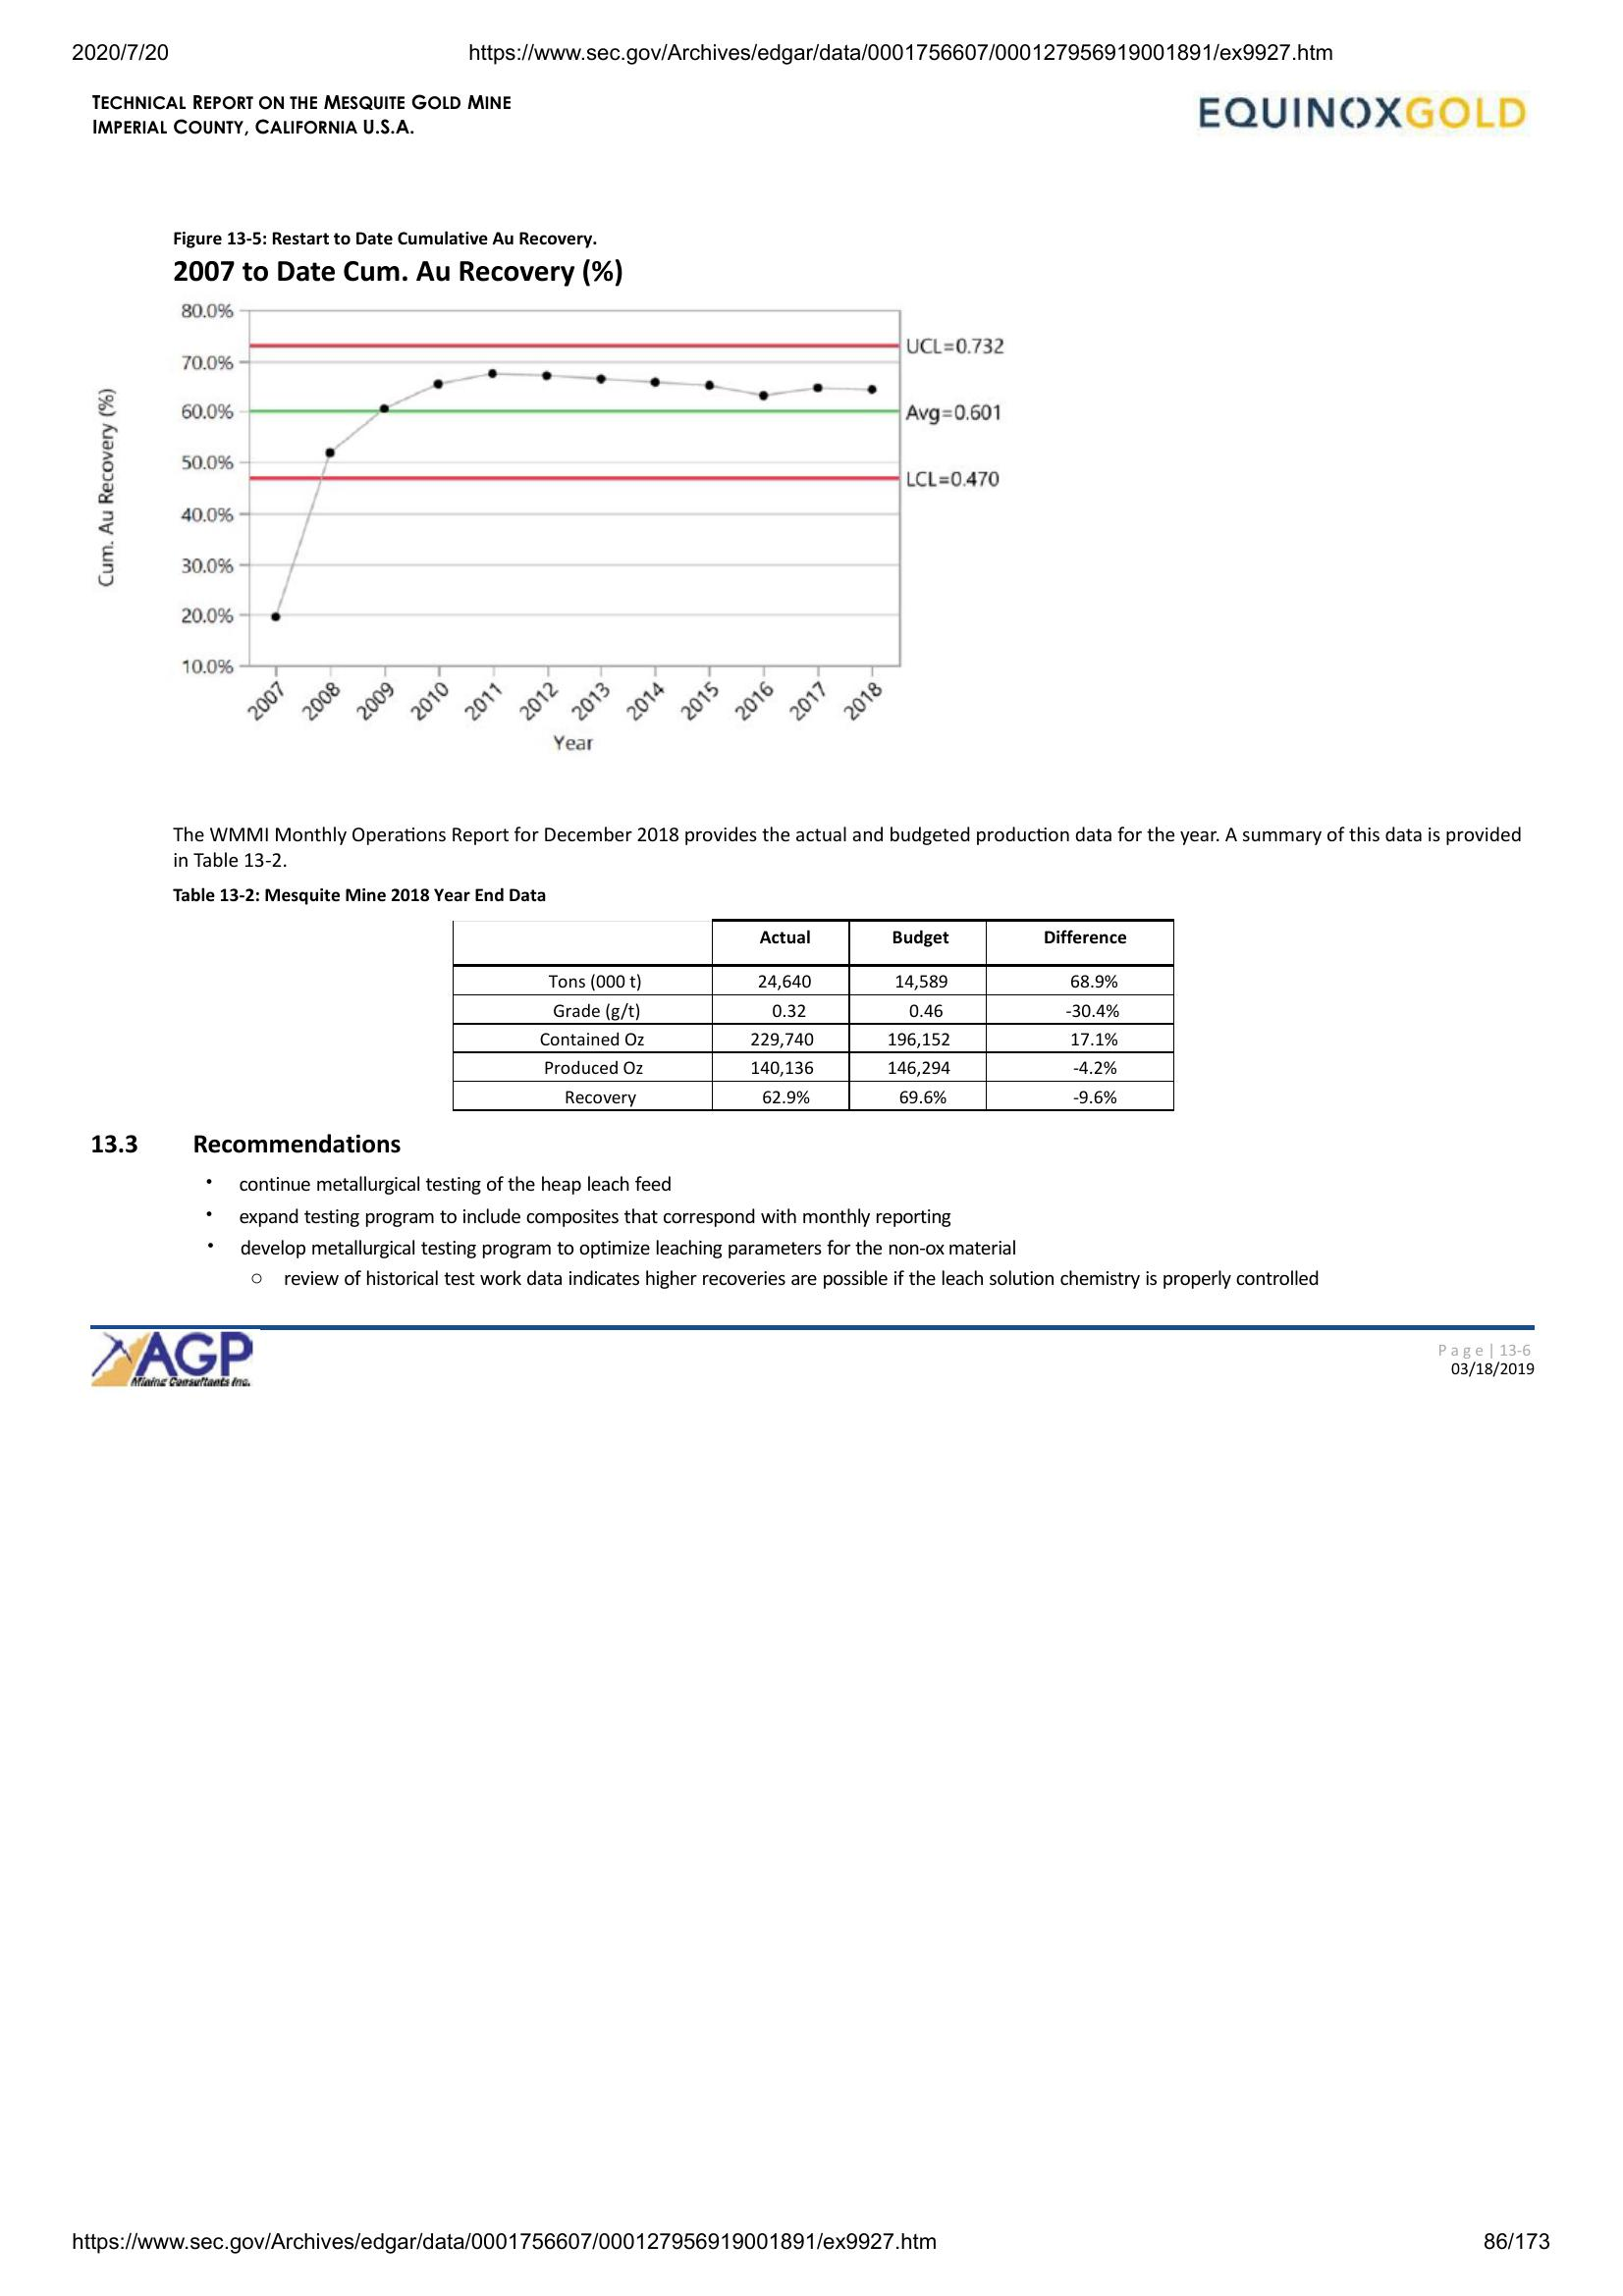table: (444, 913, 1180, 1122)
